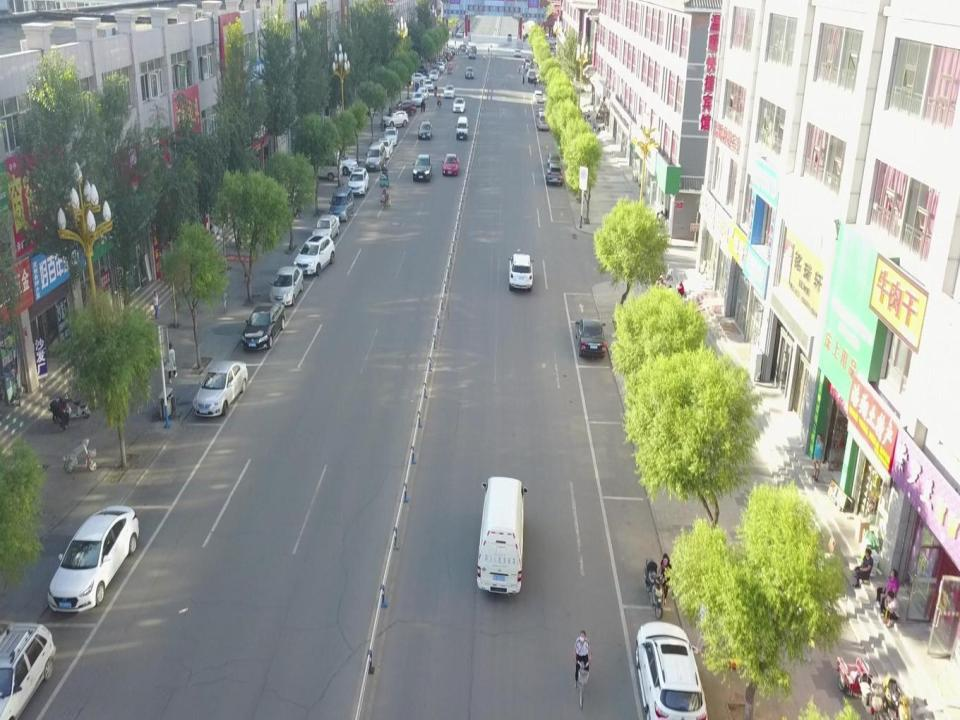car: (49, 504, 139, 614), (634, 620, 709, 720), (0, 623, 57, 720), (192, 359, 248, 418), (241, 301, 286, 350), (293, 234, 335, 276), (268, 266, 304, 306), (574, 317, 607, 358), (508, 252, 534, 292), (321, 149, 359, 175), (312, 214, 340, 241), (347, 167, 370, 196), (380, 108, 408, 129), (412, 154, 432, 182), (545, 161, 563, 186), (388, 100, 416, 116), (441, 153, 460, 176), (377, 137, 394, 159), (382, 126, 399, 146), (545, 152, 560, 172), (418, 120, 432, 140), (452, 97, 466, 112), (410, 72, 426, 84), (532, 90, 544, 103), (444, 84, 455, 98), (422, 79, 434, 91), (417, 88, 428, 100), (464, 66, 474, 79), (468, 49, 476, 59), (513, 48, 520, 57)
van: (476, 475, 528, 597), (298, 150, 343, 180), (328, 186, 354, 222), (365, 141, 387, 172), (454, 116, 468, 139), (535, 111, 549, 132), (412, 92, 422, 106), (507, 32, 512, 41)
